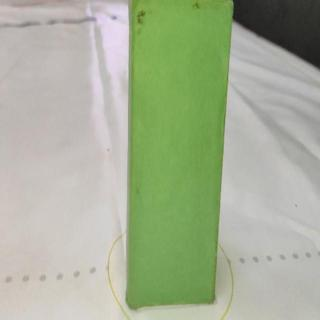greenbox: (127, 0, 234, 309)
